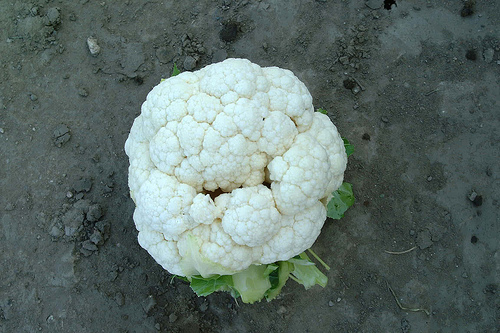cauliflower: (124, 56, 347, 280)
